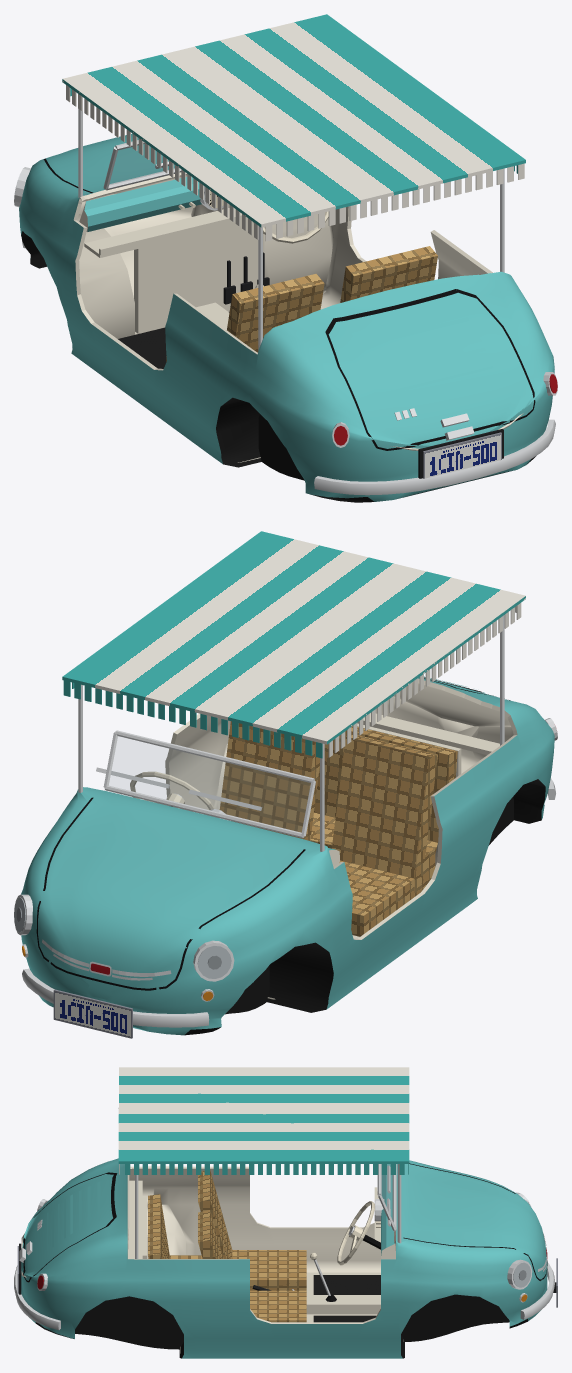
File: jolly.glb
3 renders of one model, top to bottom at view 1: azimuth 30°, elevation 25°; view 2: azimuth 150°, elevation 25°; view 3: azimuth 270°, elevation 25°, orthographic. The views are drawn at different scales.
Parts seen in each view (by area): view 1: Body, Interior, Glass; view 2: Body, Interior, Glass, Lights_Head, SteeringWheel; view 3: Body, Interior, SteeringWheel, Glass.
Part boxes in pixels (x1,y1,x2,y2): Body: (14,14,557,502); Interior: (79,177,437,368); Glass: (110,147,174,184); Body: (14,531,557,1038); Interior: (171,713,499,938); Glass: (109,737,310,831); Lights_Head: (14,897,231,978); SteeringWheel: (130,771,214,811); Body: (14,1067,557,1358); Interior: (128,1164,395,1322); SteeringWheel: (337,1201,374,1265); Glass: (382,1164,393,1221).
Bounding box in the file's own units: 1.32 × 1.27 × 3.07.
23 materials, 5 textured.
